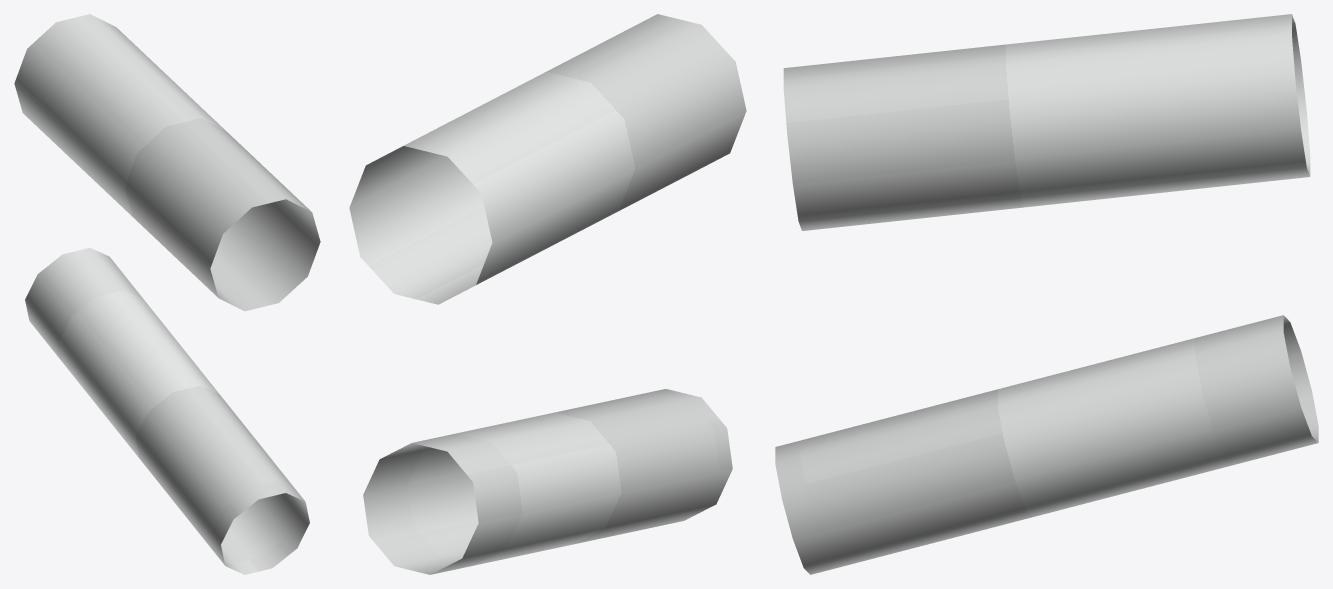
The model's file is trusssignalarm_sloped8_c6.obj.
The picture shows the model from 3 angles, left to right: view 1: azimuth 30°, elevation 25°; view 2: azimuth 150°, elevation 25°; view 3: azimuth 270°, elevation 25°; orthographic projection. The views are drawn at different scales.
Parts seen in each view (by area): view 1: trusssignalarm_sloped8_c6; view 2: trusssignalarm_sloped8_c6; view 3: trusssignalarm_sloped8_c6.
Part boxes in pixels (x1,y1,x2,y2): trusssignalarm_sloped8_c6: (14, 14, 320, 574); trusssignalarm_sloped8_c6: (349, 14, 746, 574); trusssignalarm_sloped8_c6: (775, 14, 1318, 574).
Size of the model in its own units: 0.325 by 1.18 by 1.07.
